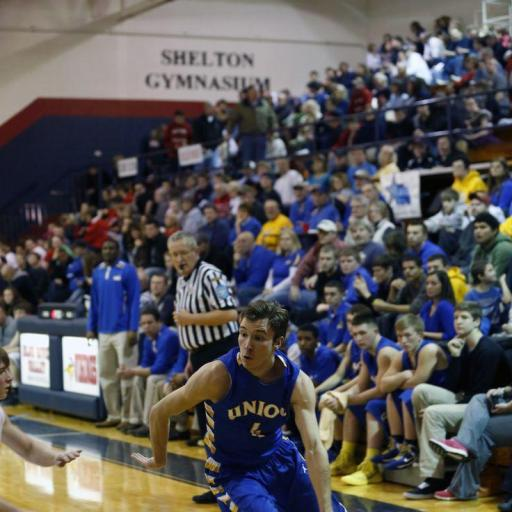person: (132, 301, 344, 511), (404, 303, 510, 499), (331, 314, 399, 485), (376, 314, 447, 469), (169, 232, 237, 376), (87, 240, 139, 427), (430, 386, 511, 501), (117, 306, 179, 437), (268, 220, 345, 306), (0, 407, 81, 467), (316, 305, 371, 393), (225, 85, 277, 161), (464, 261, 511, 333), (373, 256, 426, 314), (234, 232, 275, 306), (425, 189, 467, 255), (297, 324, 341, 386), (263, 229, 303, 296), (471, 213, 511, 275), (420, 271, 455, 341), (319, 281, 349, 353), (340, 248, 377, 304), (427, 254, 469, 303), (193, 102, 223, 168), (256, 200, 292, 251), (163, 110, 193, 170), (140, 273, 174, 325), (407, 221, 444, 268), (350, 221, 384, 271), (452, 157, 487, 203), (274, 158, 303, 208), (199, 204, 230, 249), (309, 185, 340, 229), (289, 182, 315, 234), (229, 203, 261, 244), (489, 157, 511, 215), (142, 218, 166, 270), (368, 201, 395, 245), (181, 197, 205, 234), (0, 303, 15, 346)
